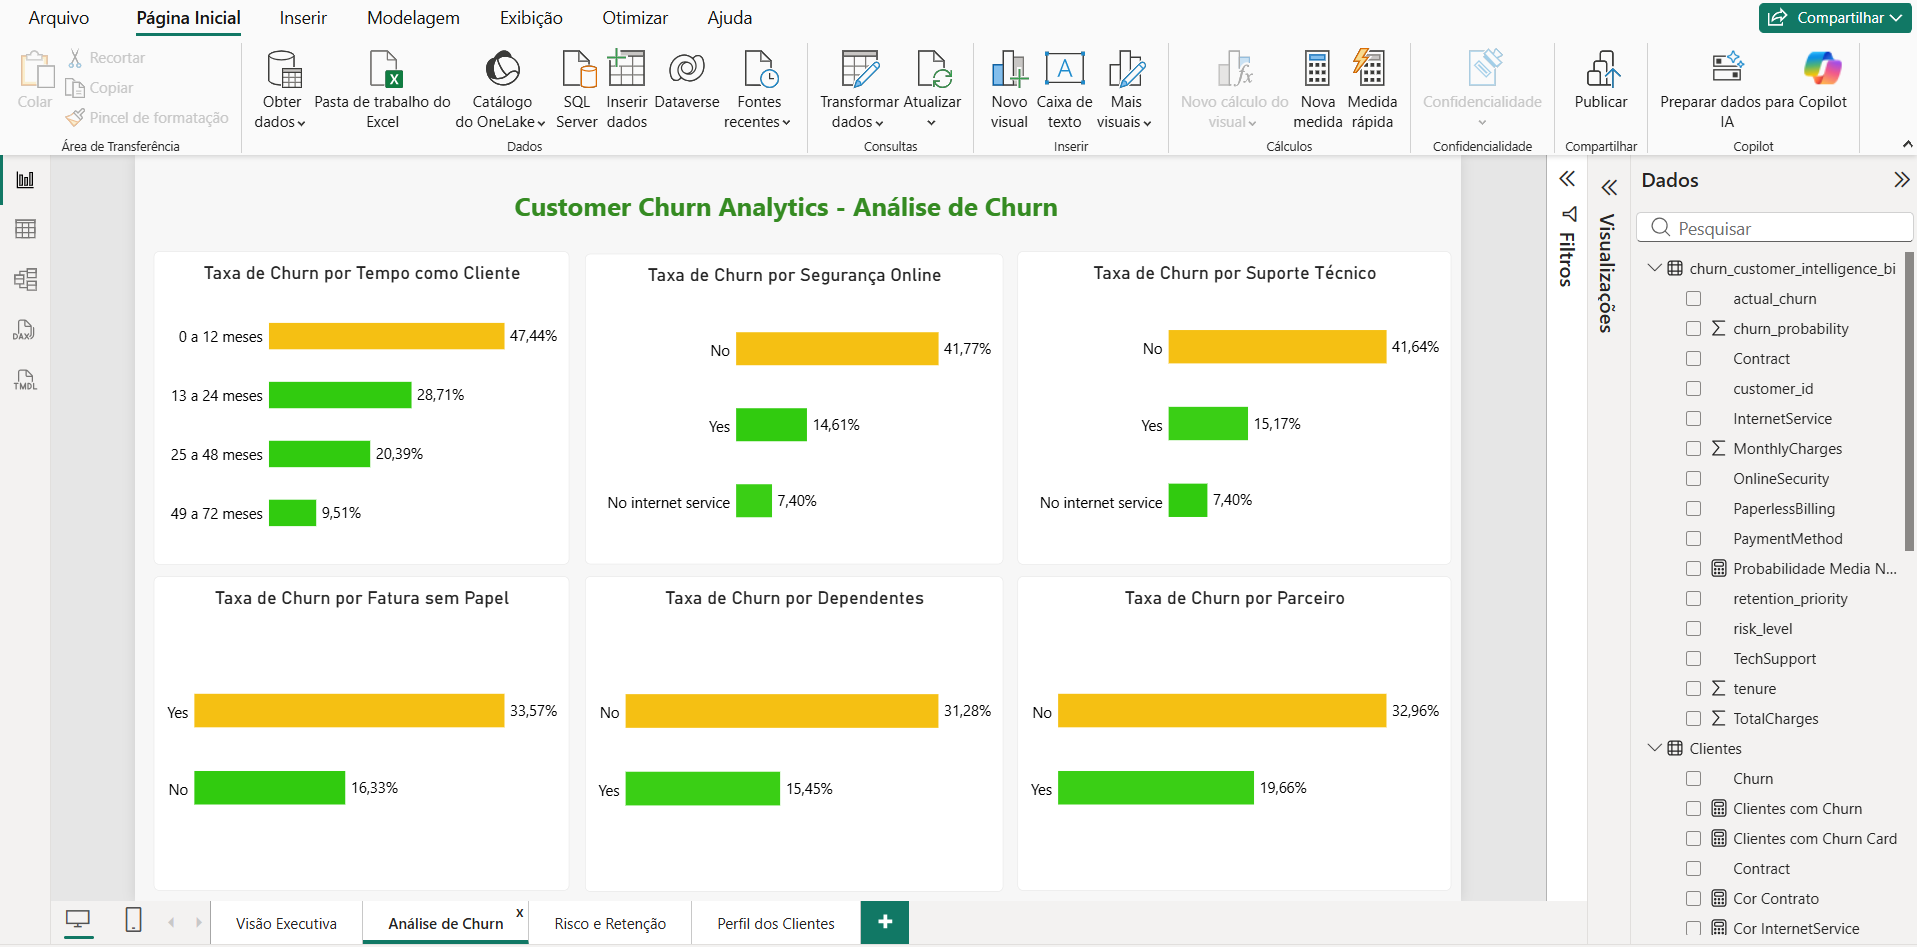

The page's visual inventory and layout, read from the dashboard file:
{"tool":"powerbi","page":{"name":"Análise de Churn","canvas":[1920,1080],"ordinal":1},"visuals":[{"type":"clusteredBarChart","title":"Taxa de Churn por Tempo como Cliente","fields":{"Category":["Clientes.Faixa Tenure"],"Y":["Clientes.Taxa de Churn"]},"box":[26.3,139.2,601.9,453.3],"z":0},{"type":"clusteredBarChart","title":"Taxa de Churn por Suporte Técnico","fields":{"Category":["Clientes.TechSupport"],"Y":["Clientes.Taxa de Churn"]},"box":[1277.1,139.2,628.2,453.3],"z":1000},{"type":"clusteredBarChart","title":"Taxa de Churn por Segurança Online","fields":{"Category":["Clientes.OnlineSecurity"],"Y":["Clientes.Taxa de Churn"]},"box":[650.8,142.9,605.6,449.5],"z":2000},{"type":"clusteredBarChart","title":"Taxa de Churn por Fatura sem Papel","fields":{"Category":["Clientes.PaperlessBilling"],"Y":["Clientes.Taxa de Churn"]},"box":[26.3,609.4,601.9,455.2],"z":3000},{"type":"clusteredBarChart","title":"Taxa de Churn por Dependentes","fields":{"Category":["Clientes.Dependents"],"Y":["Clientes.Taxa de Churn"]},"box":[650.8,609.4,605.6,457.1],"z":4000},{"type":"clusteredBarChart","title":"Taxa de Churn por Parceiro","fields":{"Category":["Clientes.Partner"],"Y":["Clientes.Taxa de Churn"]},"box":[1277.1,609.4,628.2,455.2],"z":5000},{"type":"textbox","box":[464.6,60.2,955.5,62.1],"z":5001}]}

Visuals, with their boxes on the page's 1920x1080 design canvas (x1, y1, x2, y2). These are canvas units, not pixel positions in the 1917x947 screenshot, which may show the page scaled, cropped or inside an application window:
"Taxa de Churn por Tempo como Cliente" clusteredBarChart: <box>26,139,628,592</box>
"Taxa de Churn por Suporte Técnico" clusteredBarChart: <box>1277,139,1905,592</box>
"Taxa de Churn por Segurança Online" clusteredBarChart: <box>651,143,1256,592</box>
"Taxa de Churn por Fatura sem Papel" clusteredBarChart: <box>26,609,628,1065</box>
"Taxa de Churn por Dependentes" clusteredBarChart: <box>651,609,1256,1066</box>
"Taxa de Churn por Parceiro" clusteredBarChart: <box>1277,609,1905,1065</box>
textbox: <box>465,60,1420,122</box>
